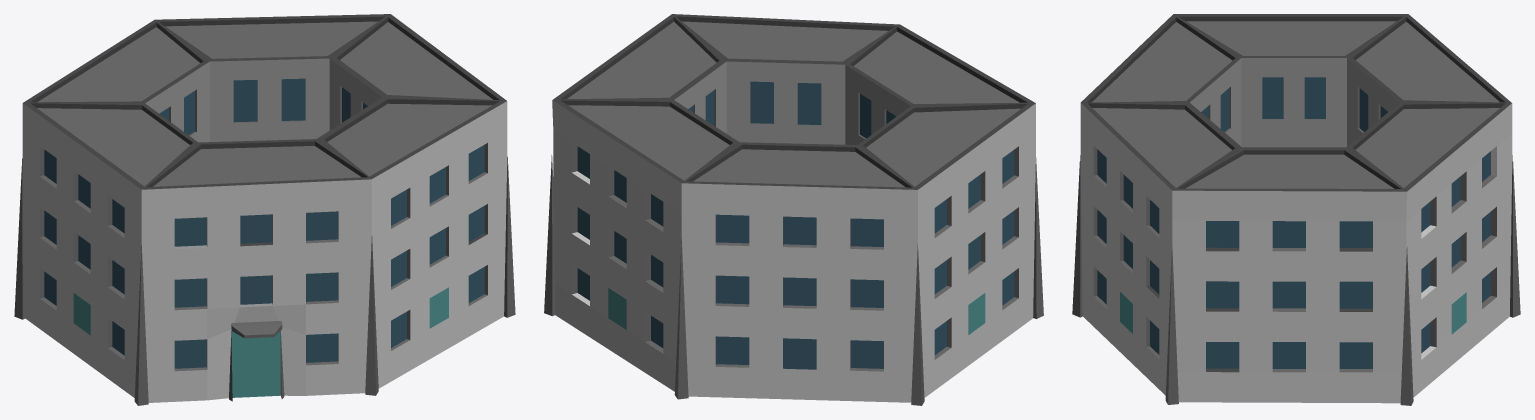
File: hexagon.fbx
3 renders of one model, left to right at view 1: azimuth 30°, elevation 25°; view 2: azimuth 150°, elevation 25°; view 3: azimuth 270°, elevation 25°, orthographic.
Parts seen in each view (by area): view 1: Cube; view 2: Cube; view 3: Cube.
Part boxes in pixels (x1,y1,x2,y2): Cube: (14,14,515,405); Cube: (544,14,1043,405); Cube: (1072,14,1520,405).
Size of the model in its own units: 372 by 200 by 384.
